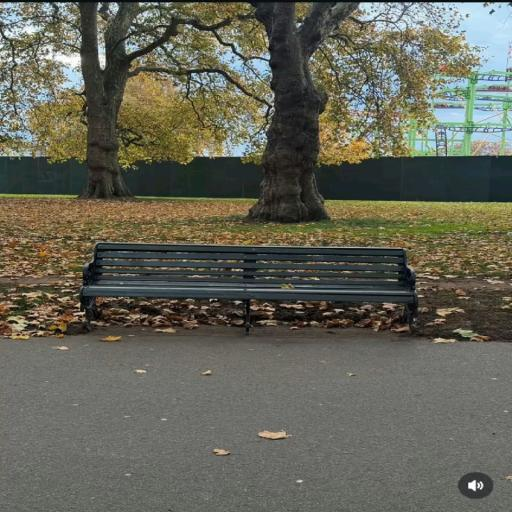glass_wall: (0, 294, 512, 512)
trash_bin: (80, 242, 418, 334)
